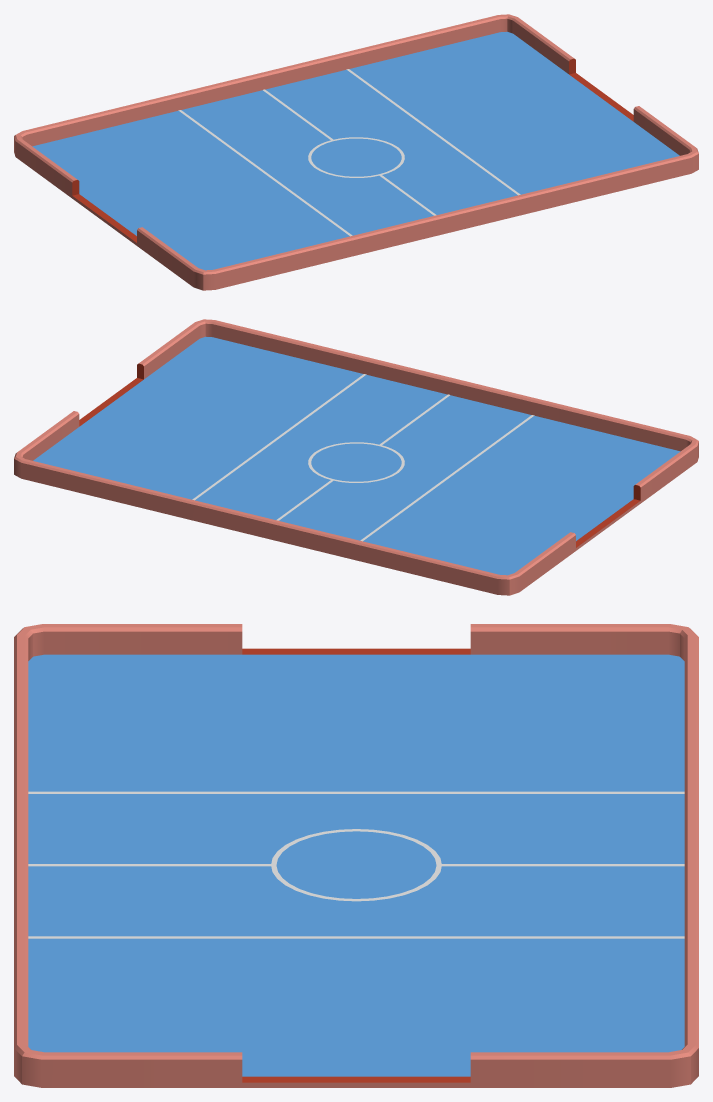
File: Table.fbx
3 renders of one model, top to bottom at view 1: azimuth 30°, elevation 25°; view 2: azimuth 150°, elevation 25°; view 3: azimuth 270°, elevation 25°, orthographic. The views are drawn at different scales.
Parts seen in each view (by area): view 1: table, layout; view 2: table, layout; view 3: table, layout.
Boxes of the visible parts, x1,y1,x2,y2 form: table: (14, 14, 698, 290); layout: (178, 69, 520, 236); table: (14, 319, 698, 595); layout: (192, 374, 534, 541); table: (14, 624, 698, 1087); layout: (28, 791, 684, 938).
Bounding box in the file's own units: 18 × 0.6 × 12.
